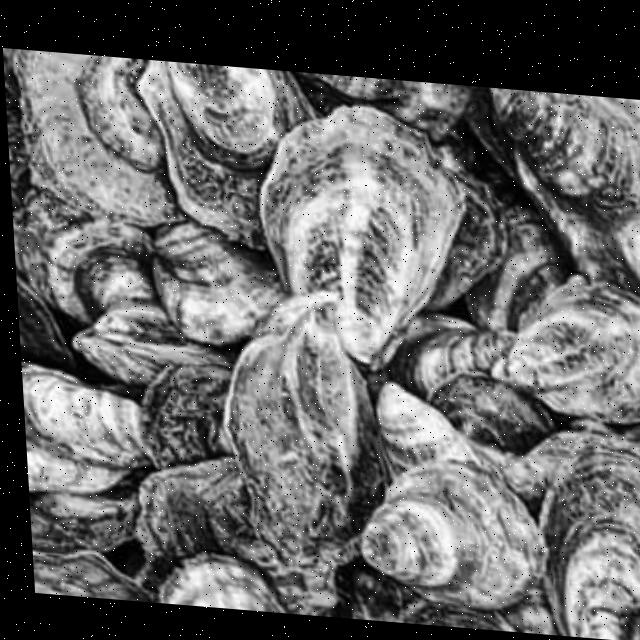Oyster-Closed: (462, 430, 581, 504), (31, 493, 149, 549), (17, 274, 80, 369)
Oyster-Indeterminate: (262, 105, 462, 367), (224, 290, 391, 568), (136, 59, 318, 248), (139, 454, 338, 616), (491, 87, 640, 302), (17, 48, 186, 224), (359, 459, 551, 609), (537, 434, 640, 640), (465, 182, 585, 331), (512, 280, 640, 418), (155, 217, 285, 344), (348, 560, 563, 635), (22, 363, 156, 465), (75, 302, 228, 386), (295, 72, 481, 140), (429, 163, 508, 311), (46, 219, 160, 321), (428, 369, 555, 451), (378, 381, 482, 481), (387, 319, 512, 395), (150, 365, 232, 463), (158, 555, 291, 613), (25, 429, 129, 496), (33, 551, 160, 599)
